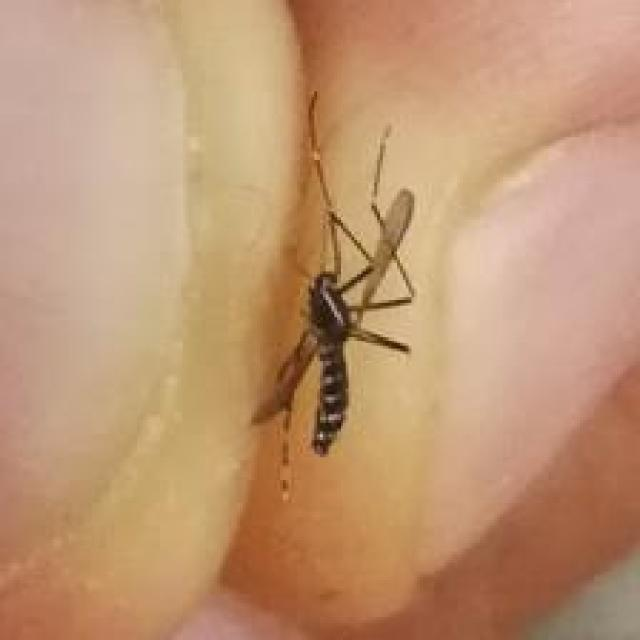Aedes albopictus: (249, 88, 417, 503)
